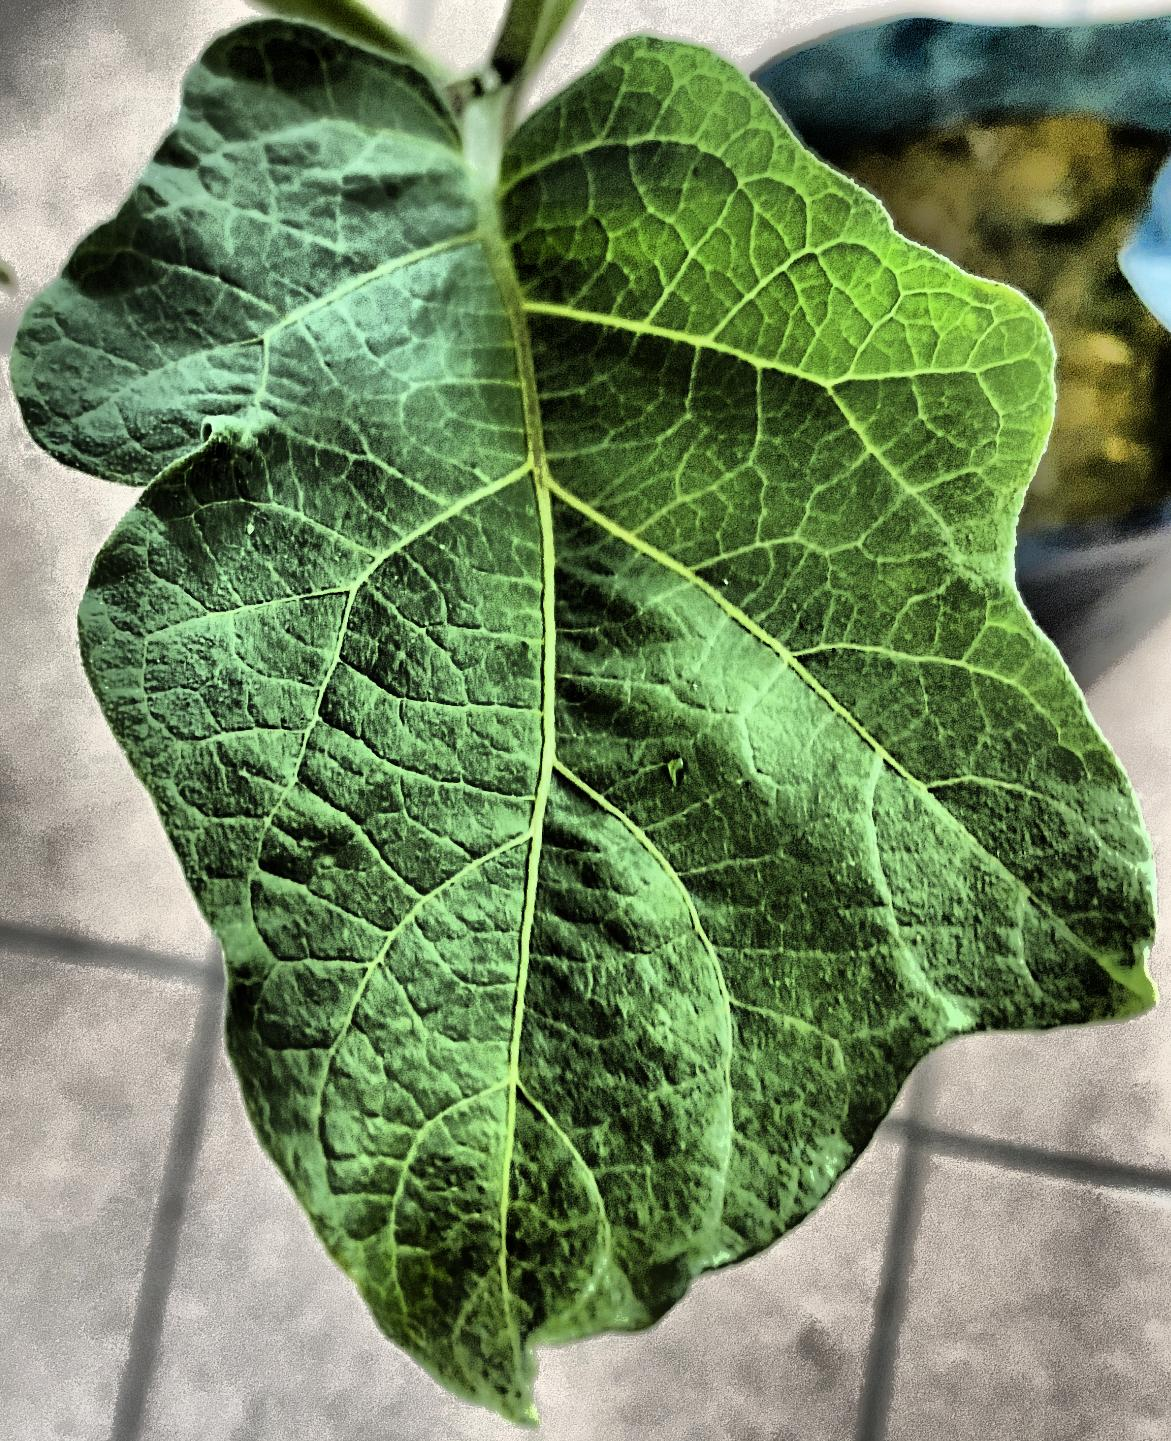HEALTHY: (1, 0, 1171, 1441)
